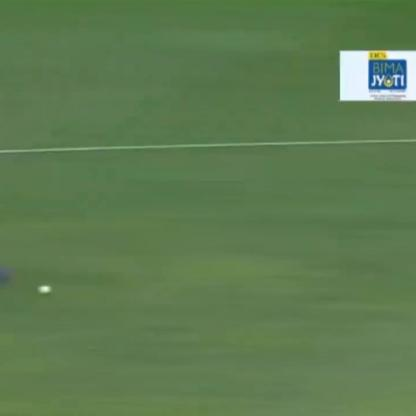ball: (35, 284, 56, 296)
